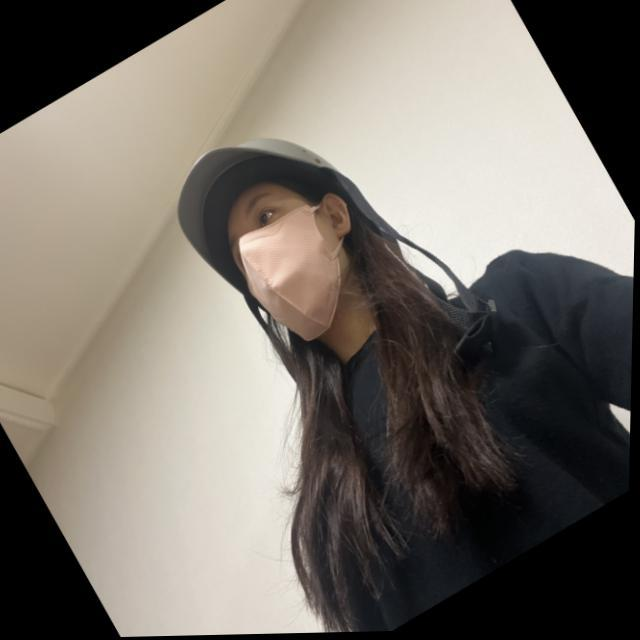Helmet: (165, 129, 406, 356)
